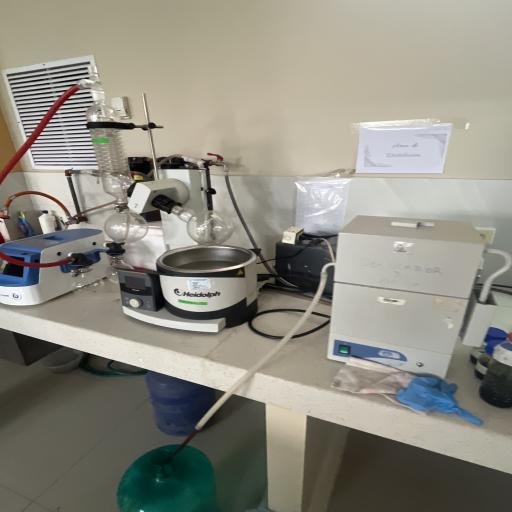Sistema_Rotaevaporacion: (4, 62, 295, 340)
